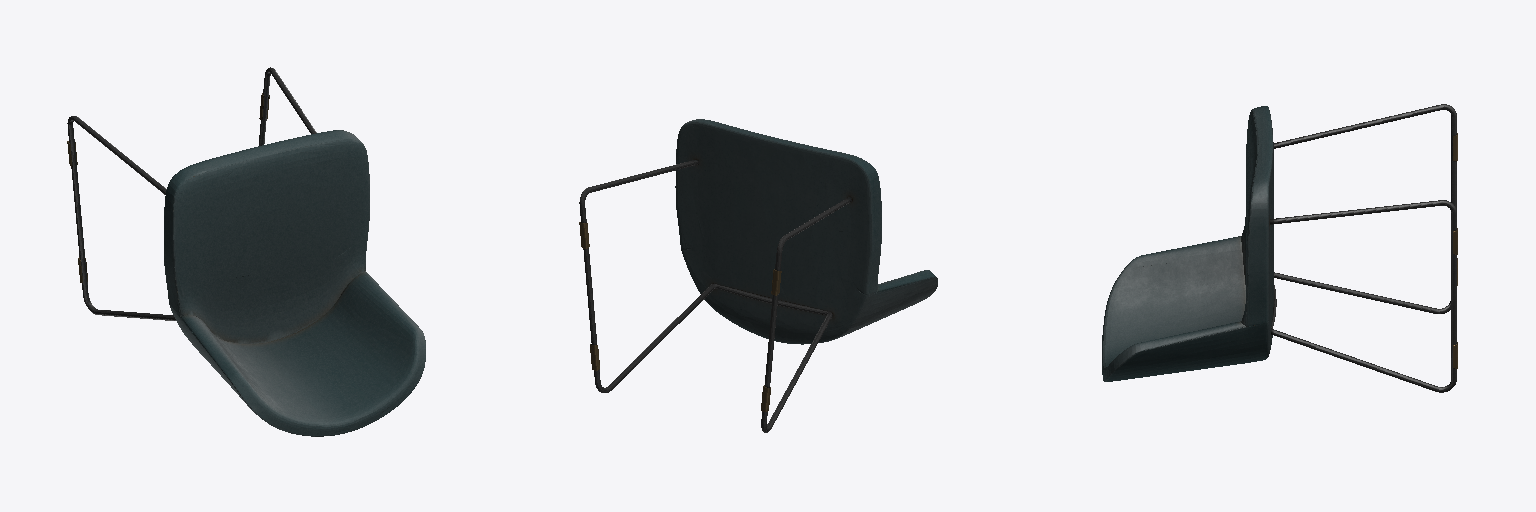
3 renders of one model, left to right at view 1: azimuth 30°, elevation 25°; view 2: azimuth 150°, elevation 25°; view 3: azimuth 270°, elevation 25°, orthographic.
Size of the model in its own units: 0.4908 by 0.5242 by 0.748.
Materials: 1 (1 with a texture image).